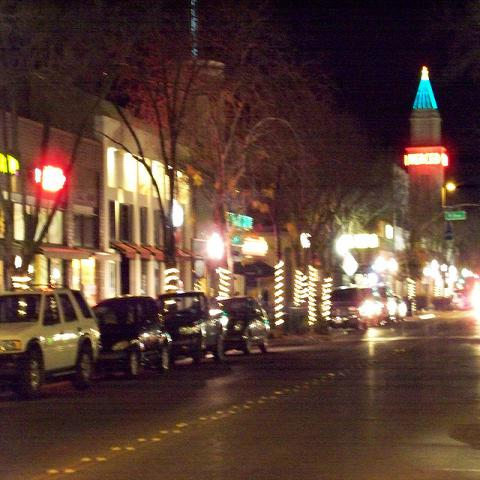car: (0, 288, 102, 395), (92, 296, 175, 376), (156, 286, 231, 364), (222, 296, 268, 358), (352, 288, 408, 330), (330, 286, 362, 318)
